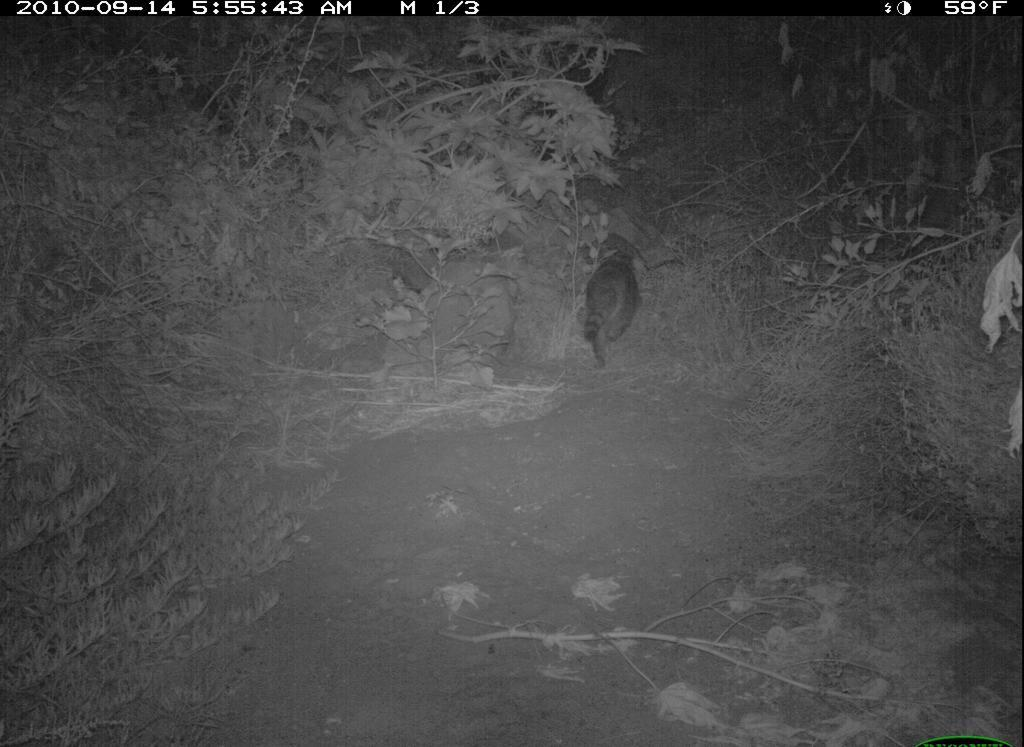raccoon: (577, 228, 649, 373)
